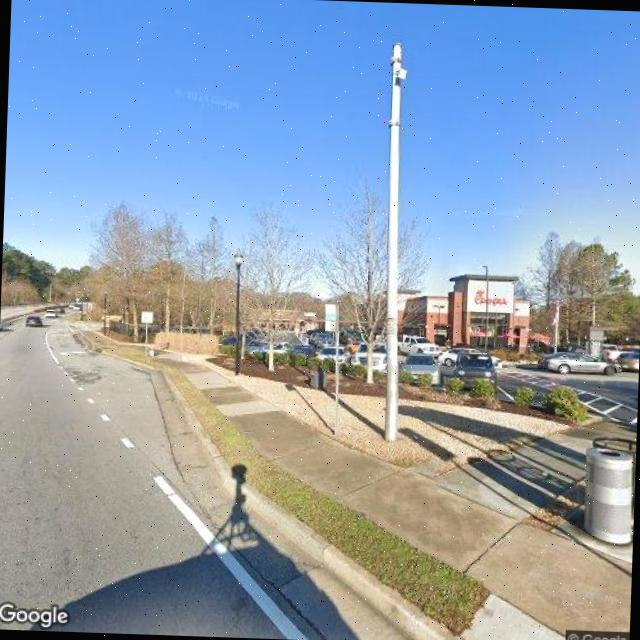trash_can: (582, 440, 634, 546)
